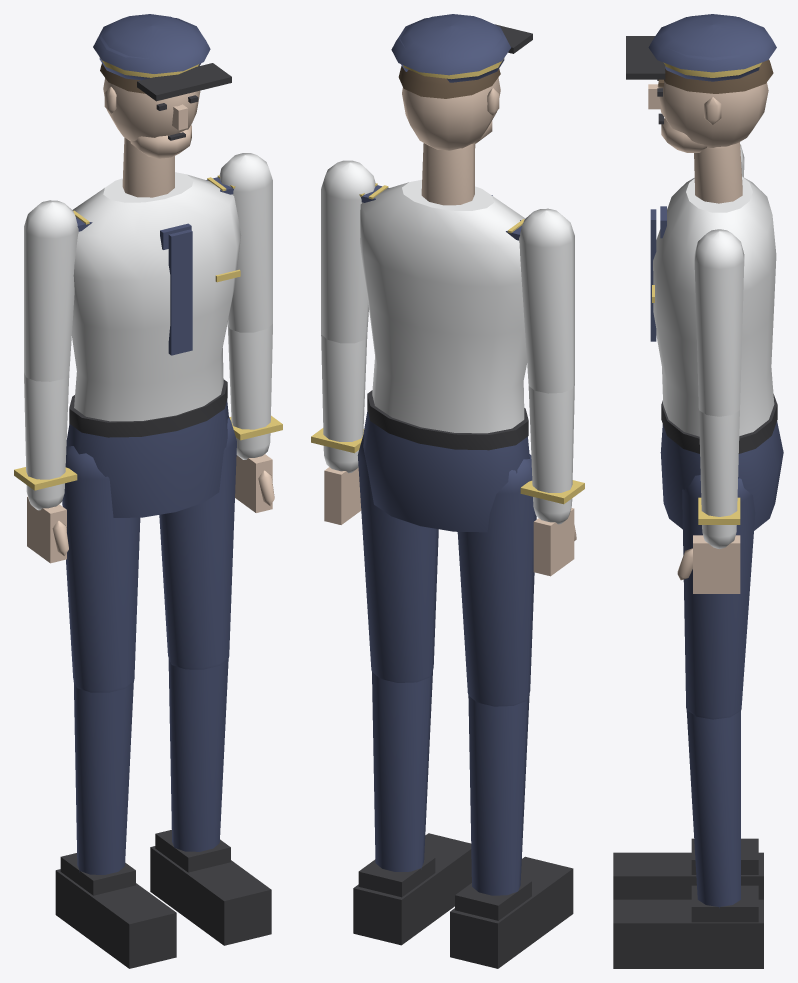
The model's file is Pilot.glb.
3 renders of one model, left to right at view 1: azimuth 30°, elevation 25°; view 2: azimuth 150°, elevation 25°; view 3: azimuth 270°, elevation 25°, orthographic. The views are drawn at different scales.
Parts seen in each view (by area): view 1: Spine, UpperLeg_R, Hips, Head, UpperLeg_L, LowerLeg_L, LowerLeg_R, Foot_L, Foot_R, UpperArm_R, UpperArm_L, LowerArm_R (+4 smaller); view 2: Spine, Hips, UpperLeg_R, Head, UpperLeg_L, LowerLeg_R, LowerLeg_L, UpperArm_R, Foot_R, Foot_L, UpperArm_L, LowerArm_R (+4 smaller); view 3: Spine, Head, Foot_L, UpperLeg_L, LowerLeg_L, UpperArm_L, Hips, LowerArm_L, Foot_R, Hand_L, Neck.
Boxes of the visible parts, left/top/right/bottom form: Spine: left=72, top=172, right=241, bottom=421; UpperLeg_R: left=62, top=446, right=140, bottom=692; Hips: left=66, top=379, right=228, bottom=517; Head: left=93, top=14, right=231, bottom=158; UpperLeg_L: left=159, top=417, right=236, bottom=669; LowerLeg_L: left=168, top=658, right=228, bottom=851; LowerLeg_R: left=73, top=681, right=133, bottom=874; Foot_L: left=150, top=829, right=271, bottom=945; Foot_R: left=55, top=853, right=176, bottom=968; UpperArm_R: left=24, top=200, right=78, bottom=381; UpperArm_L: left=219, top=153, right=272, bottom=332; LowerArm_R: left=14, top=373, right=77, bottom=510; Spine: left=359, top=179, right=526, bottom=433; Hips: left=363, top=390, right=529, bottom=532; UpperLeg_R: left=457, top=454, right=536, bottom=706; Head: left=391, top=14, right=532, bottom=150; UpperLeg_L: left=357, top=434, right=438, bottom=682; LowerLeg_R: left=468, top=694, right=529, bottom=895; LowerLeg_L: left=372, top=671, right=432, bottom=871; UpperArm_R: left=519, top=208, right=574, bottom=393; Foot_R: left=450, top=856, right=573, bottom=968; Foot_L: left=353, top=833, right=471, bottom=945; UpperArm_L: left=321, top=160, right=375, bottom=343; LowerArm_R: left=520, top=384, right=584, bottom=524; Spine: left=650, top=176, right=776, bottom=436; Head: left=626, top=14, right=776, bottom=152; Foot_L: left=613, top=885, right=763, bottom=968; UpperLeg_L: left=682, top=475, right=755, bottom=719; LowerLeg_L: left=686, top=710, right=740, bottom=908; UpperArm_L: left=694, top=229, right=744, bottom=416; Hips: left=660, top=394, right=783, bottom=530; LowerArm_L: left=698, top=410, right=740, bottom=548; Foot_R: left=613, top=838, right=763, bottom=899; Hand_L: left=677, top=535, right=740, bottom=593; Neck: left=694, top=142, right=742, bottom=203.
Bounding box in the file's own units: 0.524 × 1.8 × 0.305.
